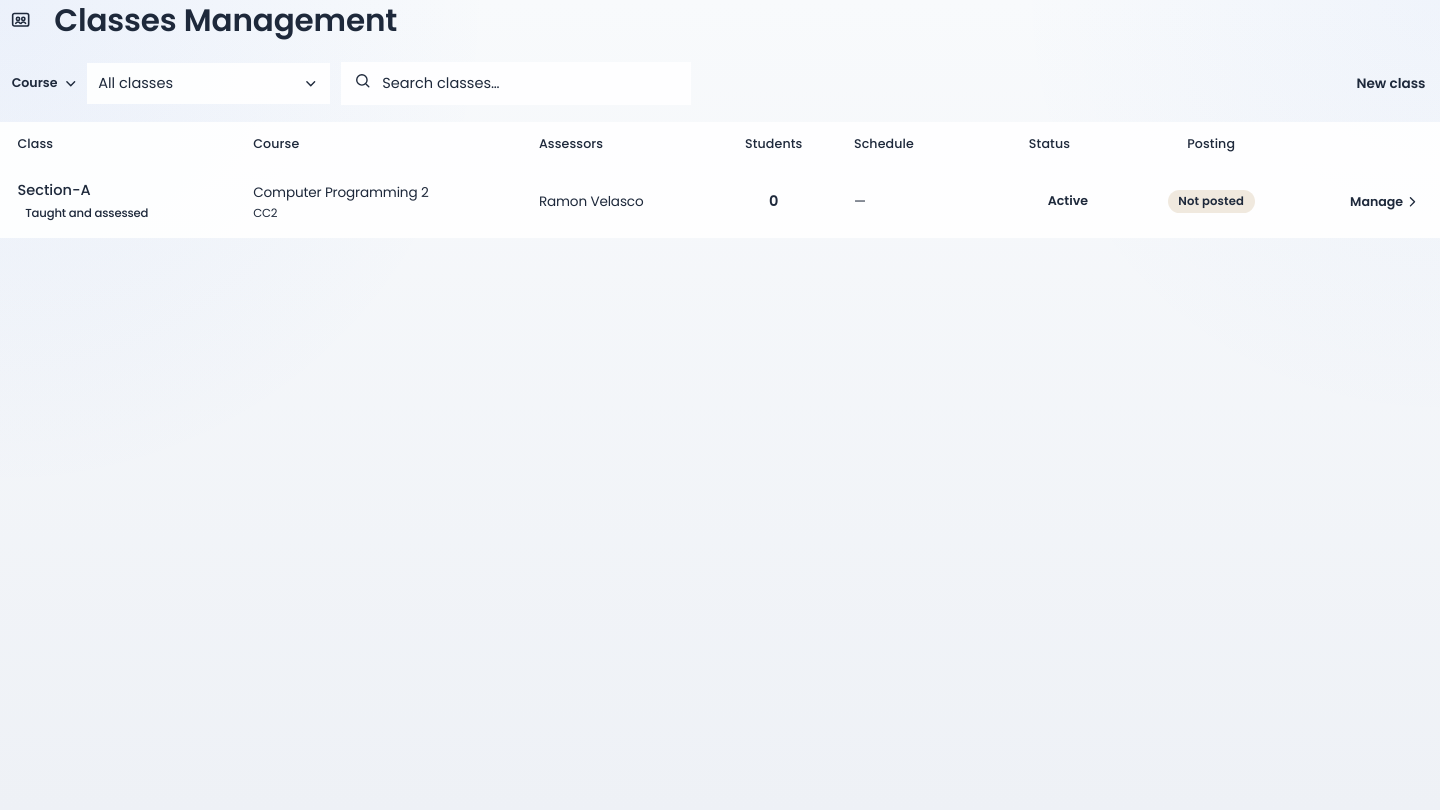
Test: Posting › shows the server's refusal in the window
Click the button "Section-A". click: (54,190)
box: [18,180,91,201]
(page scrolled)
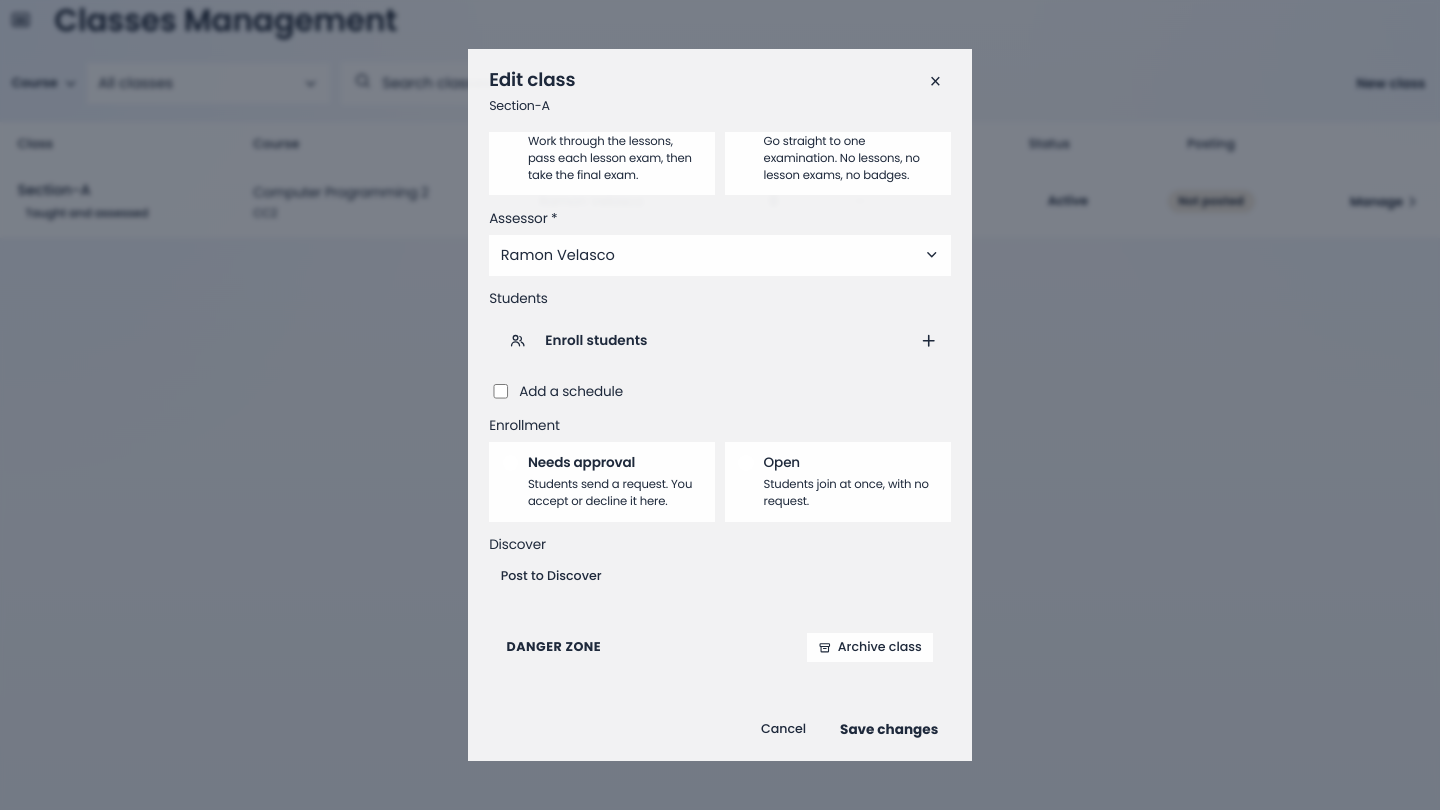
Click the button "Post to Discover". click: (551,576)
box: [489,561,613,592]
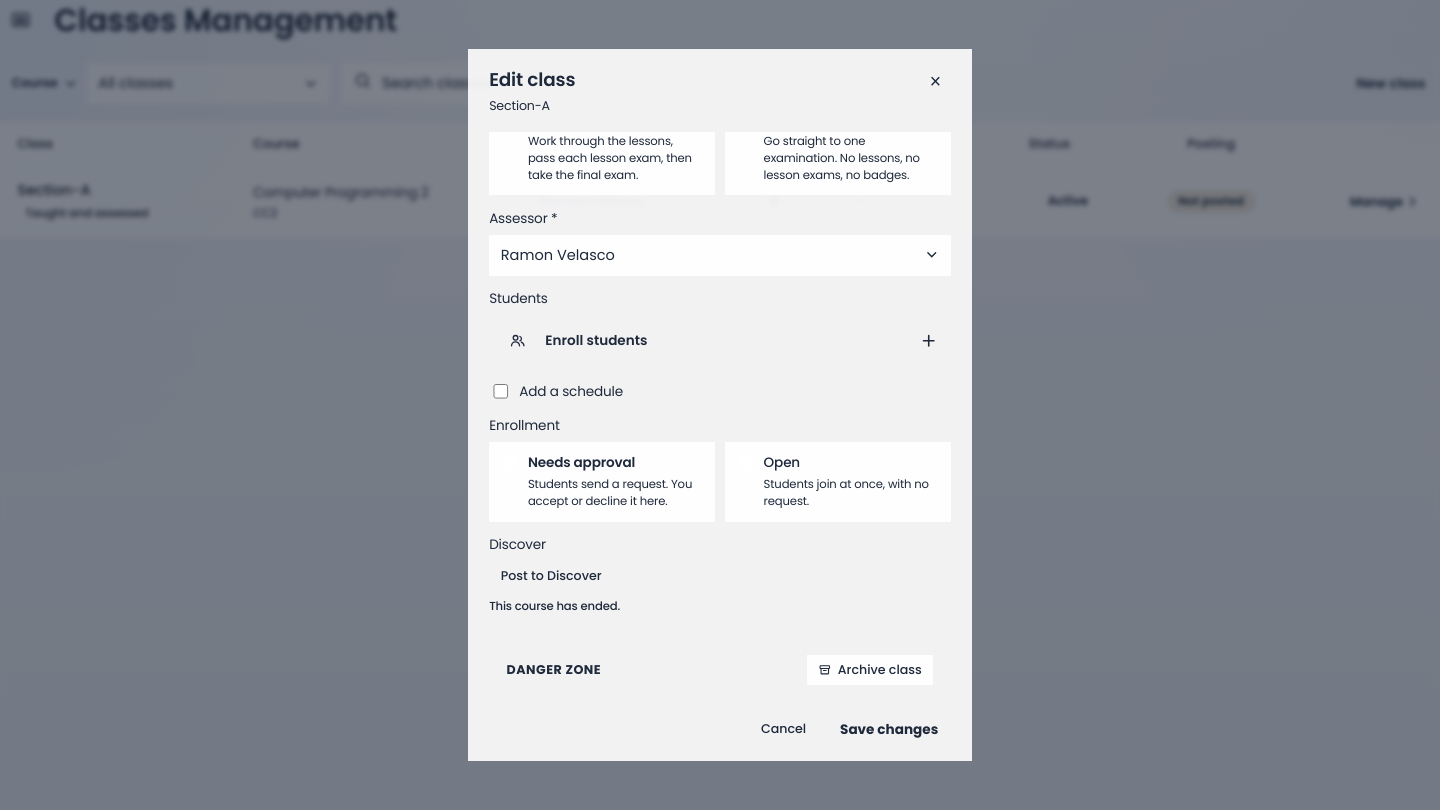
Now the button "Post to Discover" is shown, box [489,561,613,592]
Now the message reads "This course has ended.", box [489,598,620,614]
